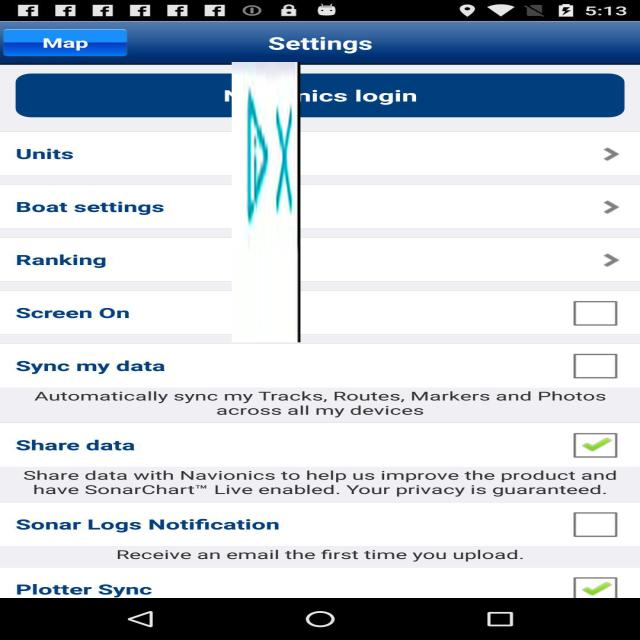sneaking: (232, 62, 300, 342)
